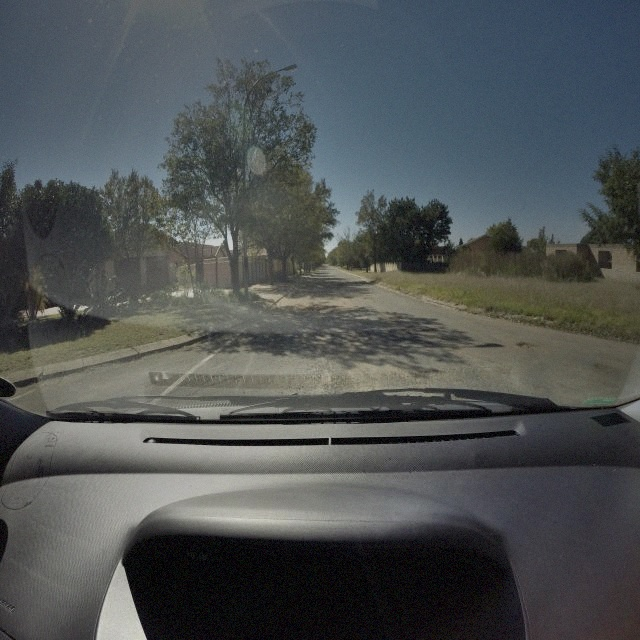pothole: (516, 341, 536, 352), (595, 363, 614, 373), (390, 315, 404, 322), (342, 296, 353, 300)
